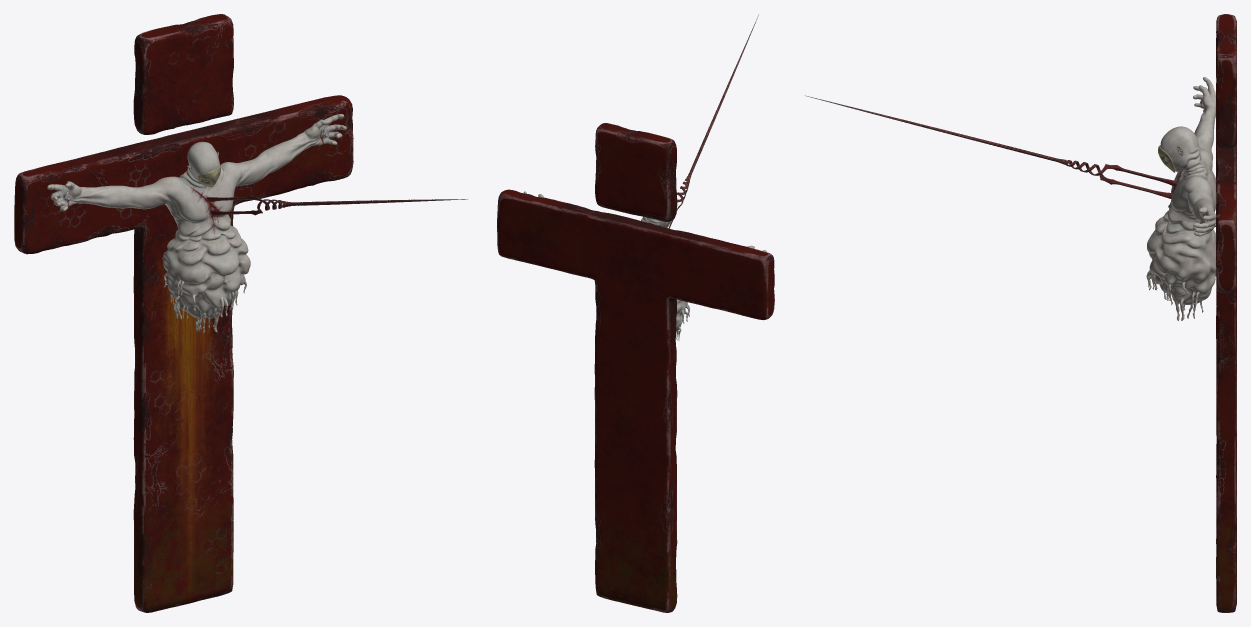
Rendered from lilith_textures_lights (1).glb.
3 renders of one model, left to right at view 1: azimuth 30°, elevation 25°; view 2: azimuth 150°, elevation 25°; view 3: azimuth 270°, elevation 25°, orthographic. The views are drawn at different scales.
Visible parts, largest first — view 1: Cross_low, LilithBody_low, Spear_low; view 2: Cross_low, Spear_low, LilithBody_low; view 3: Cross_low, LilithBody_low, Spear_low.
Part boxes in pixels (left/top/right/bottom): Cross_low: left=14, top=14, right=353, bottom=612; LilithBody_low: left=47, top=114, right=346, bottom=333; Spear_low: left=207, top=195, right=467, bottom=215; Cross_low: left=497, top=123, right=774, bottom=612; Spear_low: left=668, top=15, right=758, bottom=228; LilithBody_low: left=523, top=191, right=766, bottom=340; Cross_low: left=1216, top=14, right=1236, bottom=612; LilithBody_low: left=1146, top=77, right=1216, bottom=320; Spear_low: left=805, top=95, right=1177, bottom=198.
Size of the model in its own units: 21.61 by 35.88 by 25.24.
7 materials, 7 textured.
